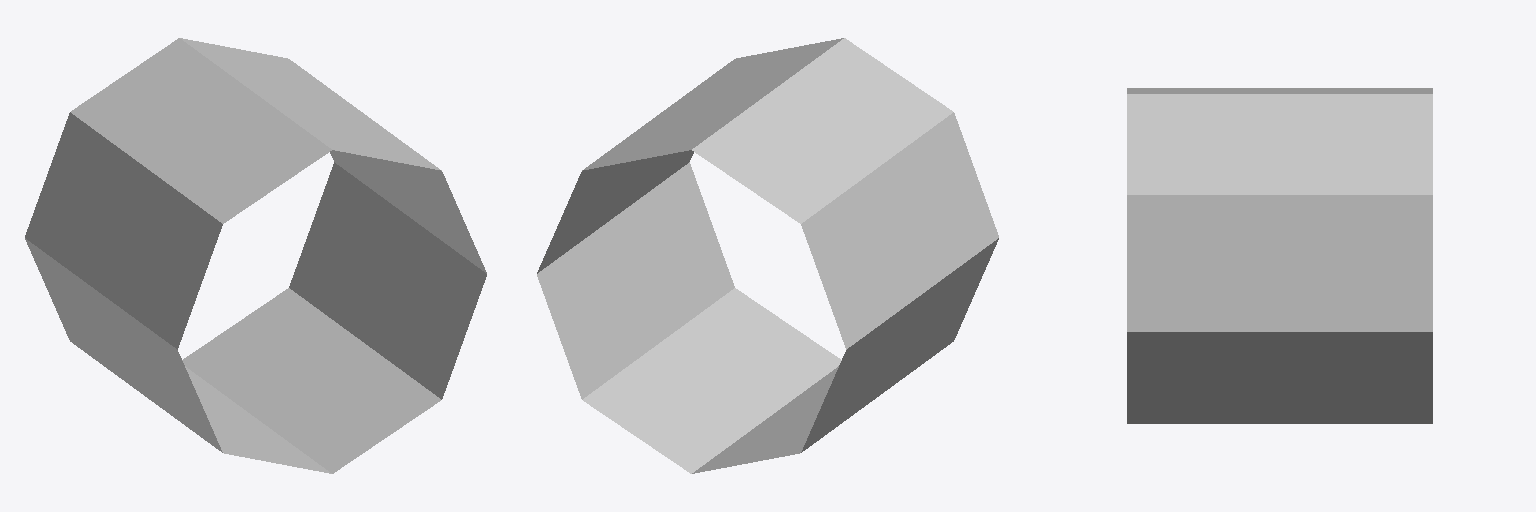
File: original-11.obj
3 views of the same model, side by side, from view 1: azimuth 30°, elevation 25°; view 2: azimuth 150°, elevation 25°; view 3: azimuth 270°, elevation 25° (orthographic).
Visible parts, largest first — view 1: #ID65; view 2: #ID65; view 3: #ID65.
Boxes of the visible parts, x1=… form: #ID65: x1=25, y1=38, x2=486, y2=473; #ID65: x1=537, y1=38, x2=998, y2=473; #ID65: x1=1127, y1=88, x2=1432, y2=423.
Size of the model in its own units: 0.0496 by 0.0496 by 0.0425.